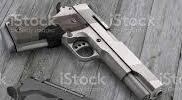gun: (1, 1, 182, 100)
